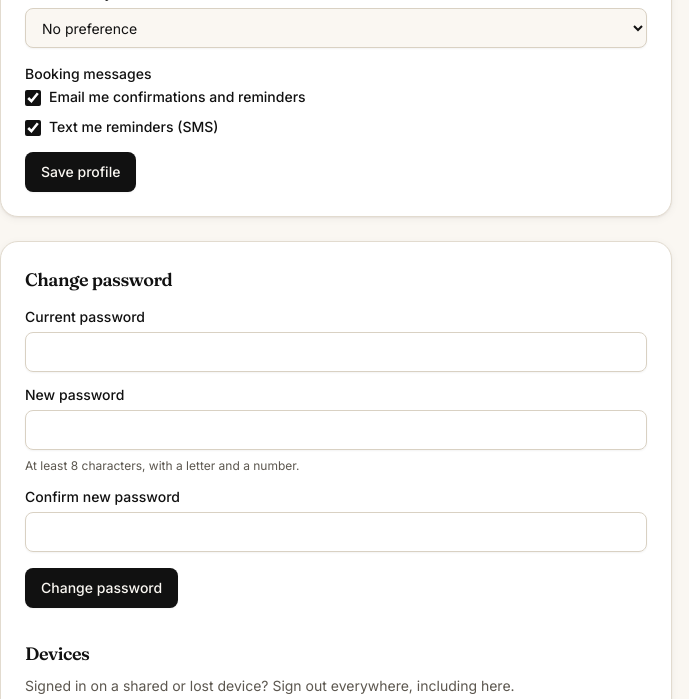
Test: profile (FR-005, API-010, API-008, API-005) › validates the new password inline
(page scrolled)
Type "Same-pass1" into the password field labelled "Current password" at (336, 352), box x1=25 y1=332 x2=647 y2=372
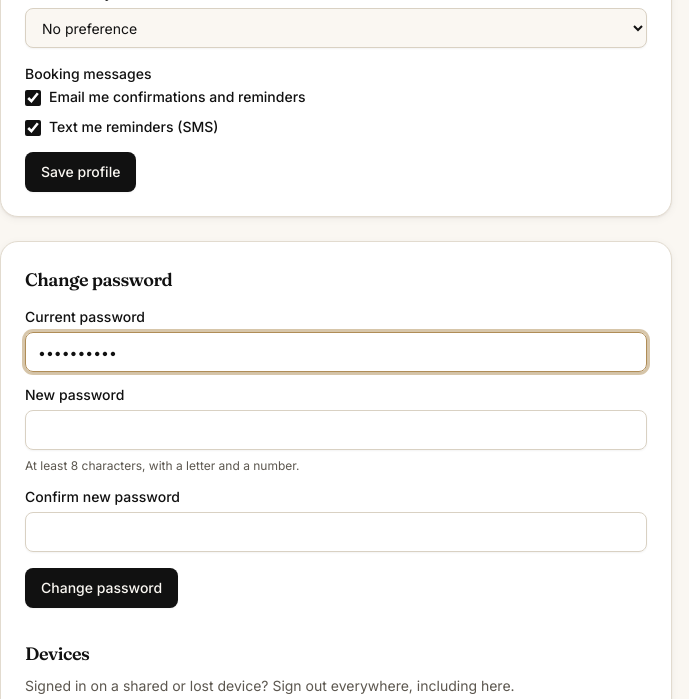
Type "Same-pass1" into the password field labelled "New password" at (336, 430), box x1=25 y1=410 x2=647 y2=450
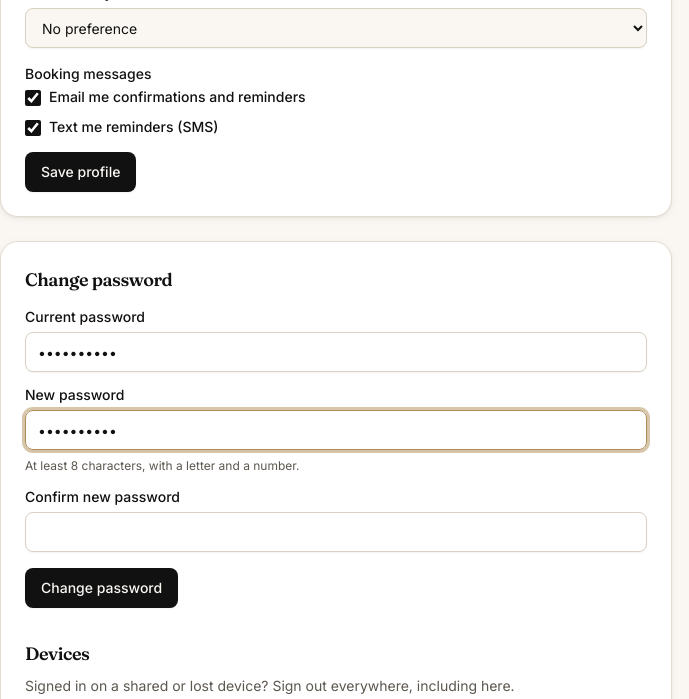
Type "Other-pass1" into the password field labelled "Confirm new password" at (336, 532), box x1=25 y1=512 x2=647 y2=552
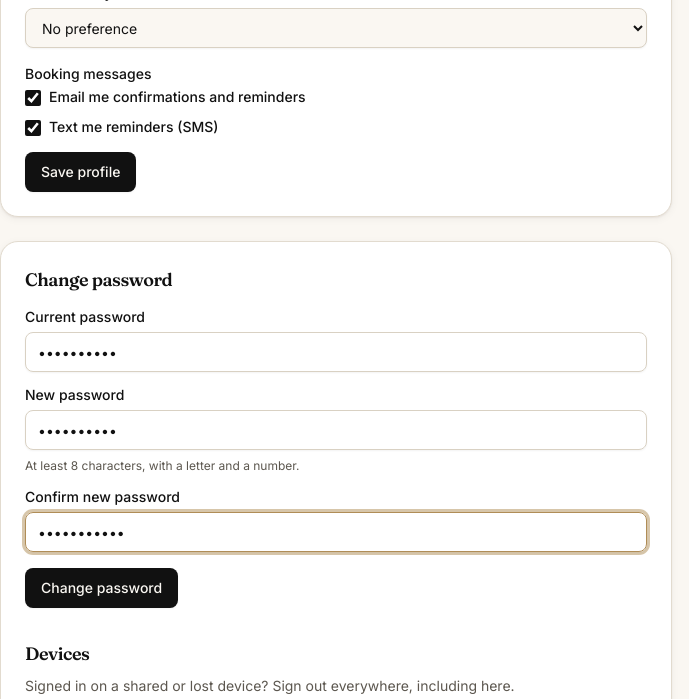
Click the button "Change password" at (102, 588), box x1=25 y1=568 x2=178 y2=608
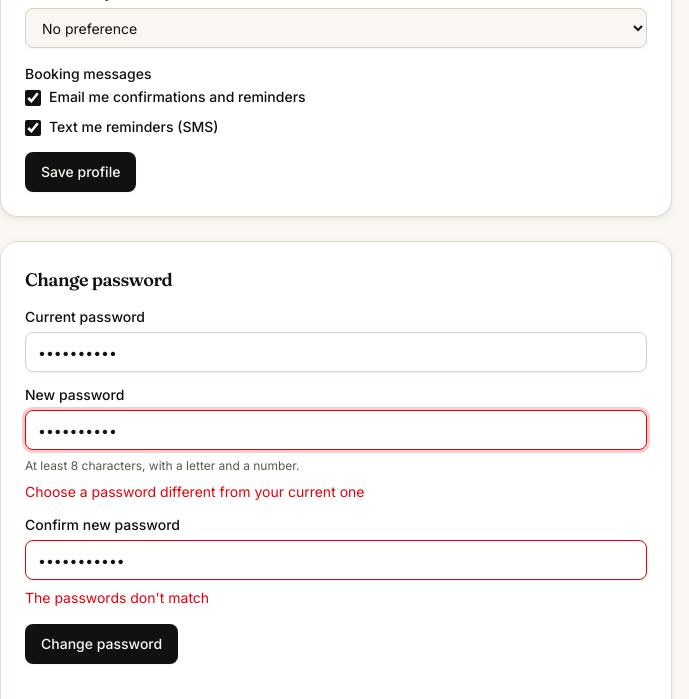
Expected: the text "The passwords don't match" is shown, x1=25 y1=589 x2=209 y2=606
Expected: the text "Choose a password different from your current one" is shown, x1=25 y1=483 x2=364 y2=500
